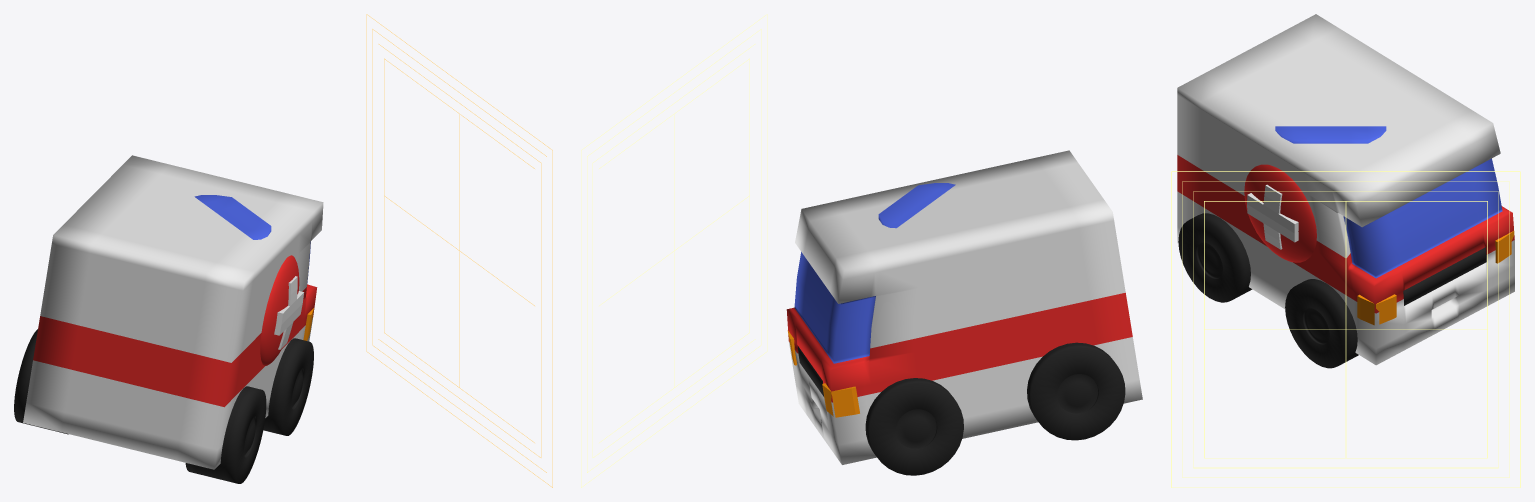
File: jhcglb.glb
The picture shows the model from 3 angles, left to right: view 1: azimuth 30°, elevation 25°; view 2: azimuth 150°, elevation 25°; view 3: azimuth 270°, elevation 25°; orthographic projection. The views are drawn at different scales.
Parts seen in each view (by area): view 1: Cube.001, rect839, Cylinder, Cylinder.001, Sphere, Cube.010, Cylinder.002, Cube.008; view 2: Cube.001, Cylinder.002, Cylinder.003, rect839, Cube.010, Cube.006; view 3: Cube.001, rect839, Cylinder.001, Cylinder, Sphere, Cube.010, Cube.008, Cube.005, Cube.006.
Boxes of the visible parts, x1,y1,x2,y2 form: Cube.001: (23,155,323,469); rect839: (366,14,552,487); Cylinder: (185,386,266,483); Cylinder.001: (263,338,313,435); Sphere: (260,255,299,365); Cube.010: (194,195,271,239); Cylinder.002: (14,329,68,434); Cube.008: (274,276,304,349); Cube.001: (786,150,1142,464); Cylinder.002: (1027,342,1125,440); Cylinder.003: (865,378,963,475); rect839: (581,14,767,487); Cube.010: (878,183,955,228); Cube.006: (822,383,859,417); Cube.001: (1177,14,1514,365); rect839: (1171,171,1520,487); Cylinder.001: (1285,279,1358,368); Cylinder: (1178,213,1252,302); Sphere: (1244,164,1316,262); Cube.010: (1275,126,1386,143); Cube.008: (1247,184,1298,249); Cube.005: (1357,294,1396,325); Cube.006: (1495,231,1514,263).
Bounding box in the file's own units: 10.38 × 7.4 × 7.4.
